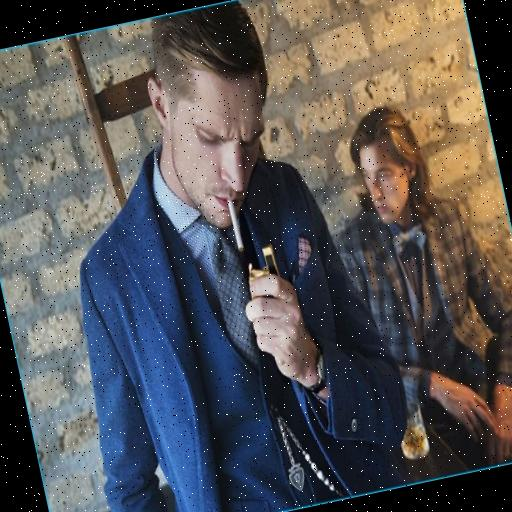membakar rokok: (172, 117, 304, 336)
